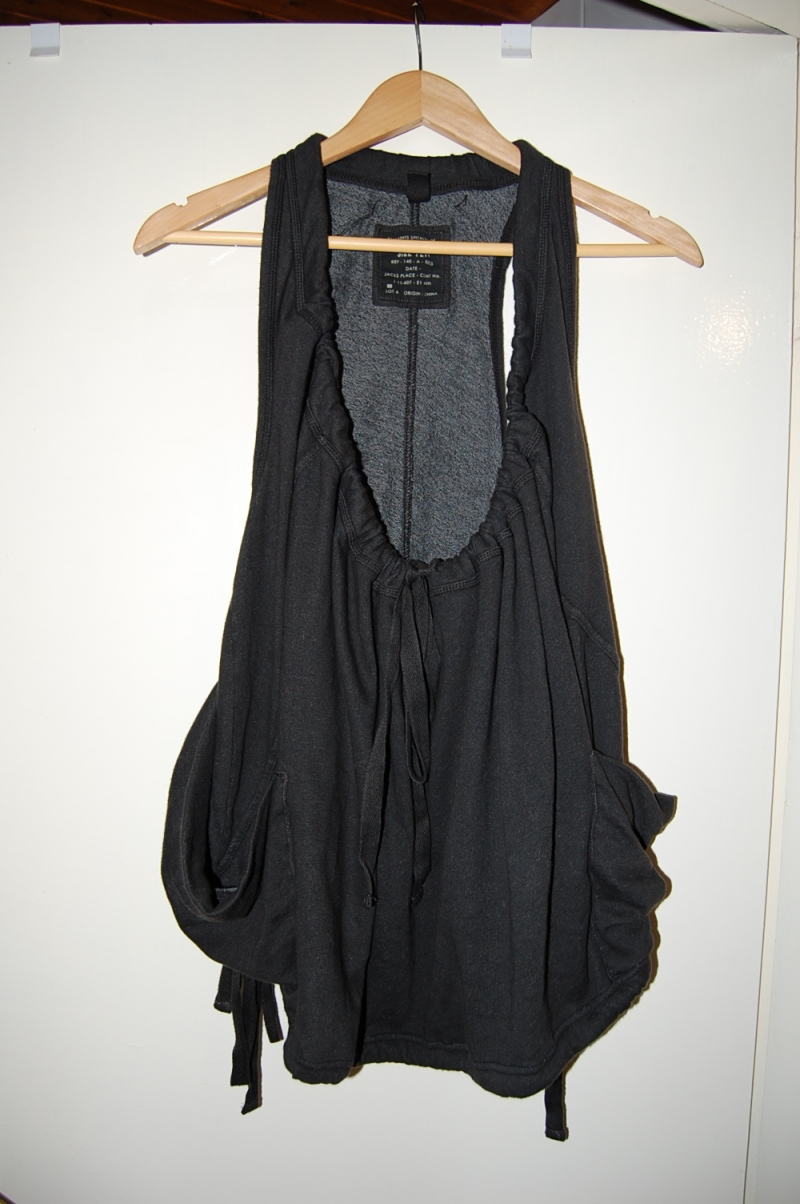flexible: (163, 129, 685, 1145)
